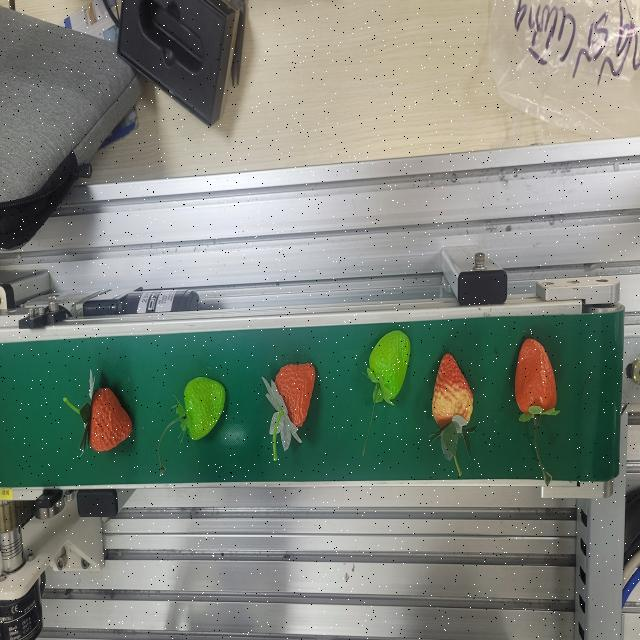Moldy Strawberry: (430, 346, 478, 456)
Small Ripe Strawberry: (510, 330, 564, 430), (268, 354, 320, 456), (78, 378, 137, 461)
Small Unripe Strawberry: (364, 323, 414, 417), (172, 372, 229, 448)
